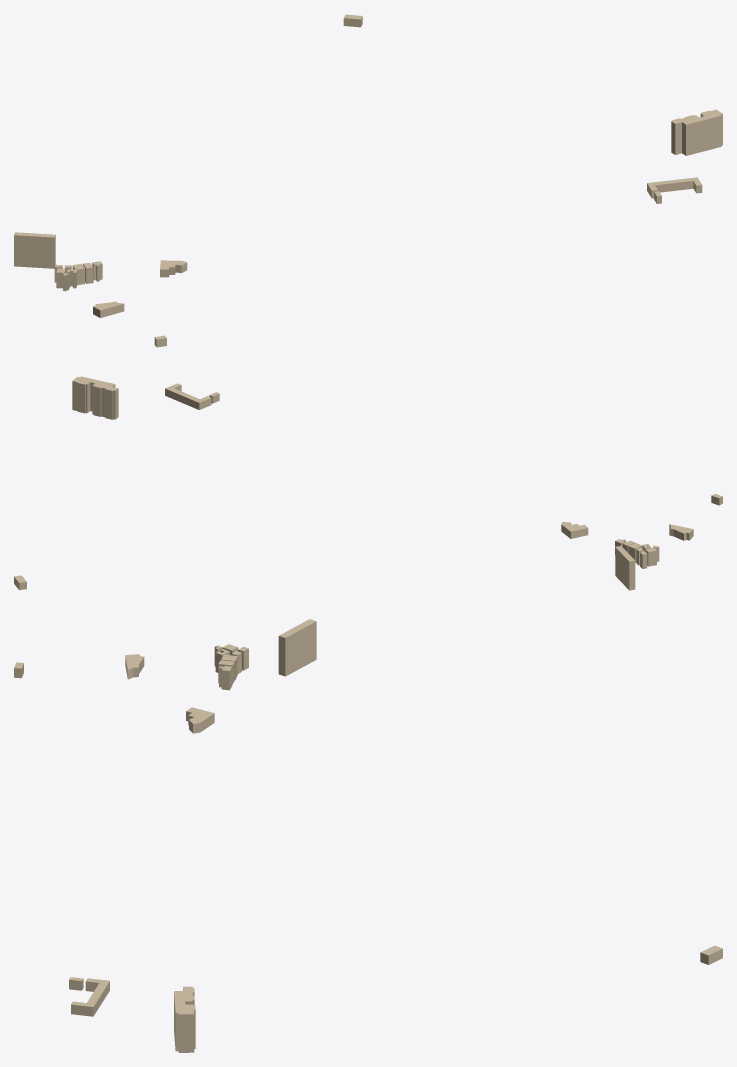
File: 16_2-estimated-coarse.glb
3 renders of one model, top to bottom at view 1: azimuth 30°, elevation 25°; view 2: azimuth 150°, elevation 25°; view 3: azimuth 270°, elevation 25°, orthographic. The views are drawn at different scales.
Size of the model in its own units: 1055 by 48 by 800.
